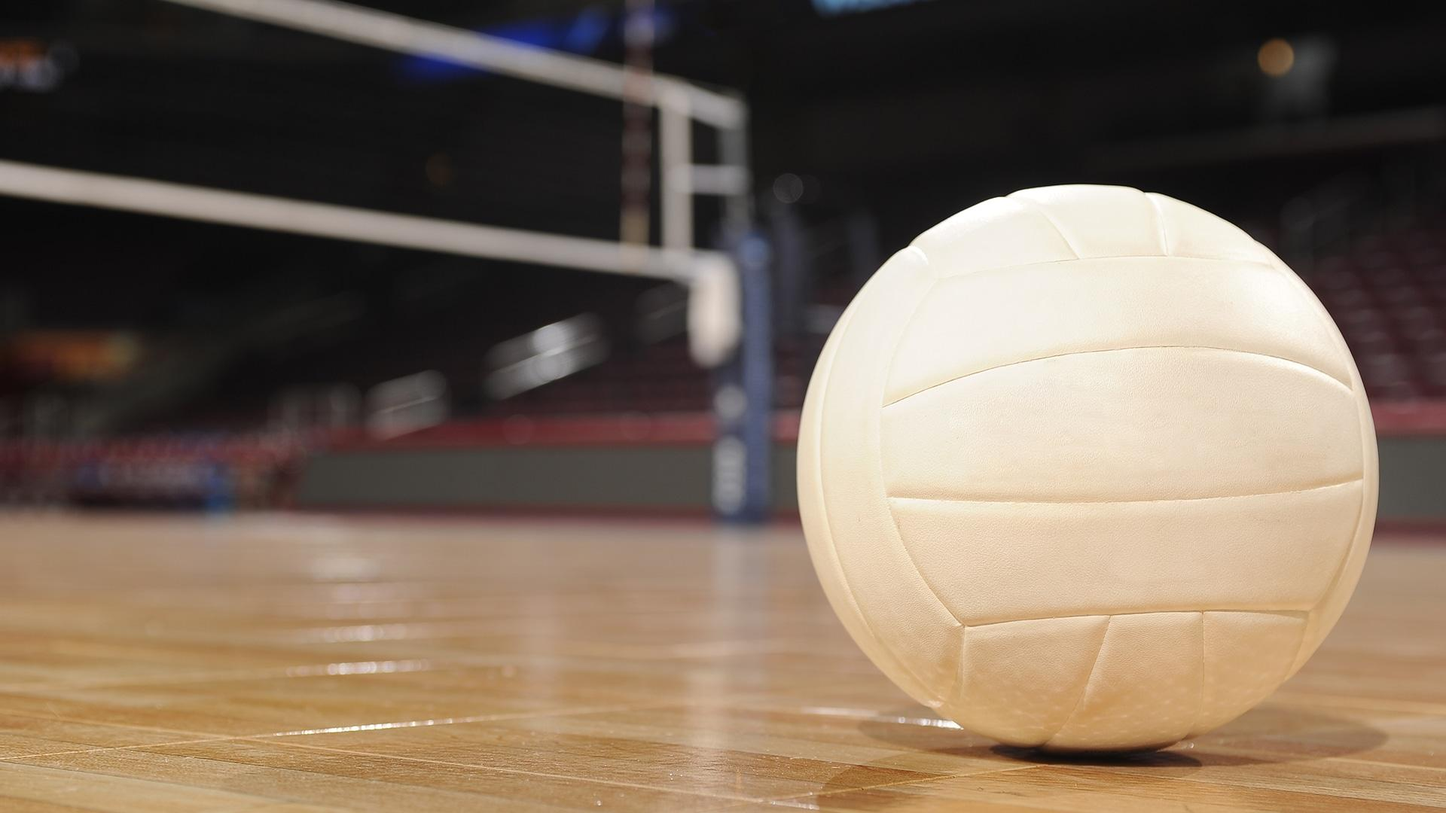ballon_volley: (795, 181, 1381, 755)
